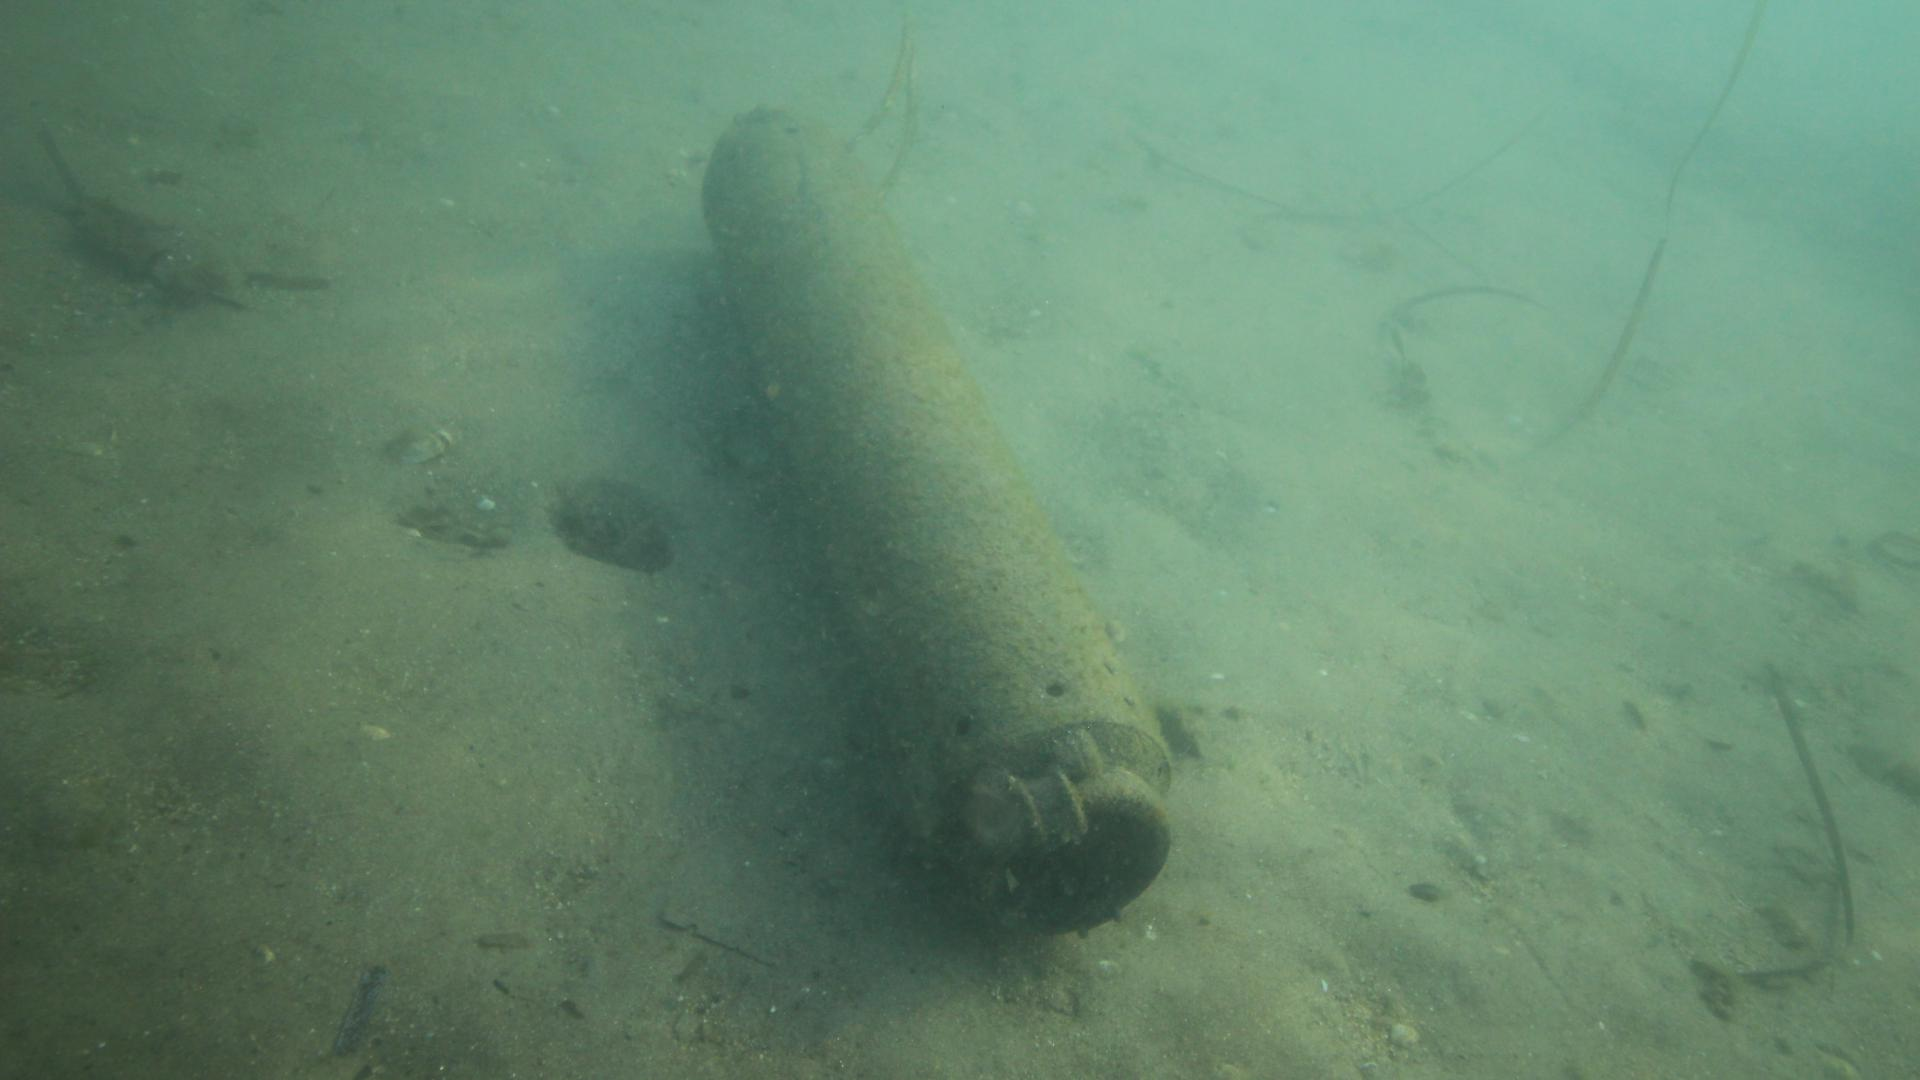eel fish trap: (698, 99, 1175, 940)
rope: (839, 11, 920, 194)
